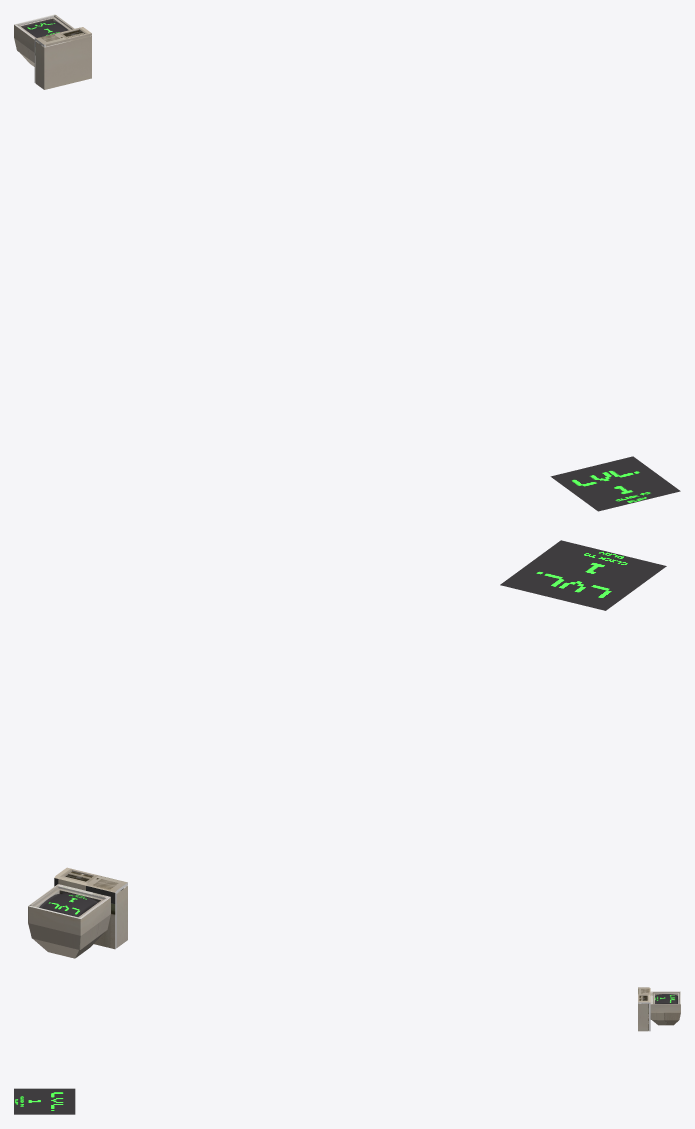
Rendered from lvl1.glb.
3 renders of one model, top to bottom at view 1: azimuth 30°, elevation 25°; view 2: azimuth 150°, elevation 25°; view 3: azimuth 270°, elevation 25°, orthographic. The views are drawn at different scales.
Parts seen in each view (by area): view 1: level-1 pc.; view 2: level-1 pc.; view 3: level-1 pc..
Boxes of the visible parts, left/top/right/bottom form: level-1 pc.: left=14, top=14, right=680, bottom=511; level-1 pc.: left=28, top=540, right=666, bottom=958; level-1 pc.: left=14, top=987, right=680, bottom=1114.
Bounding box in the file's own units: 3.6 × 2.91 × 21.8.
2 materials, 2 textured.
